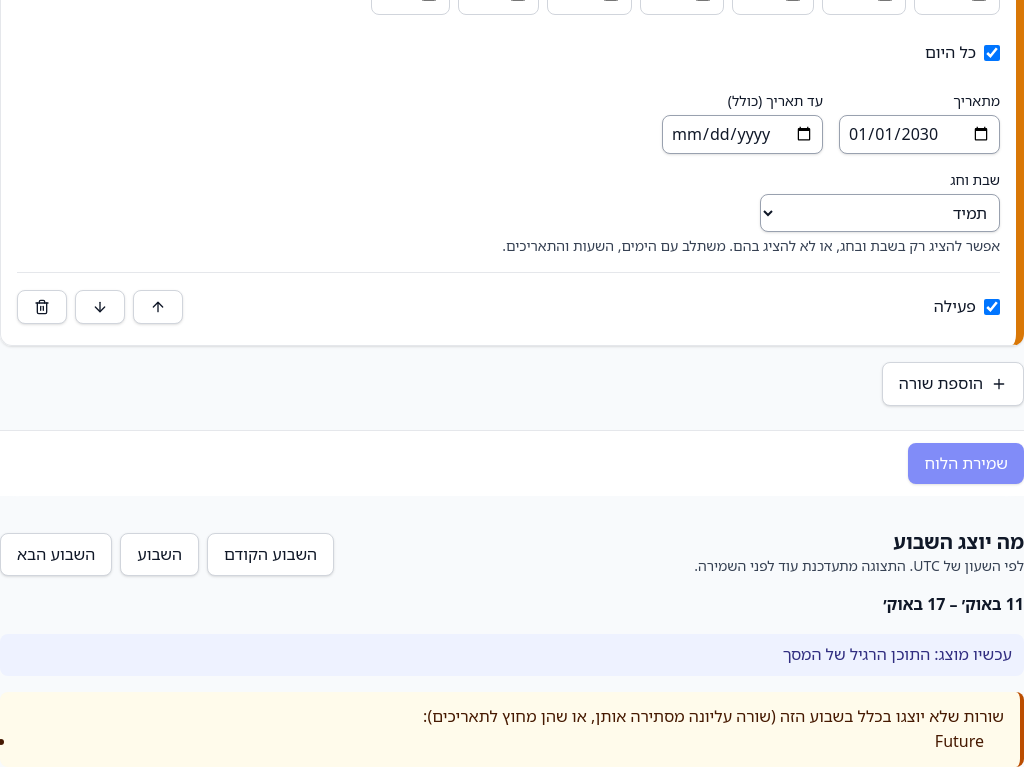
schedule editor › shows the week as text, warns about hidden entries, edits priorities and saves
The width and height of the screenshot is (1024, 767).
(page scrolled)
Expected: the text "לפי השעון של UTC. התצוגה מתעדכנת עוד לפני השמירה." is shown, [694,556,1023,576]
Expected: the text "עכשיו מוצג: התוכן הרגיל של המסך" is shown, [0,634,1023,676]
A new entry defaults to 08:00–12:00 on the first layout, below existing entries.
Click the button "הוספת שורה" at (953, 384), box [882,362,1023,406]
(page scrolled)
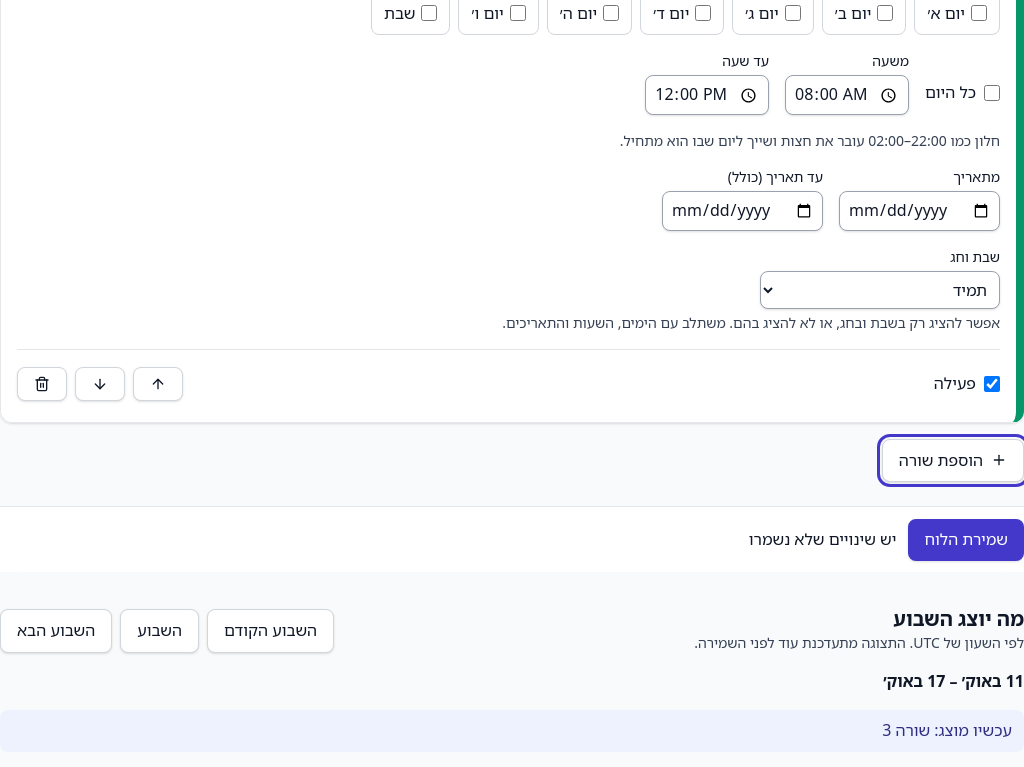
Result: the text "עכשיו מוצג: שורה 3" is shown at [0,710,1023,752]
Moving it to the top gives it priority over lunch until noon.
Click the button named "הזזת שורה 3 למעלה" at (158, 384), box [133,366,183,400]
(page scrolled)
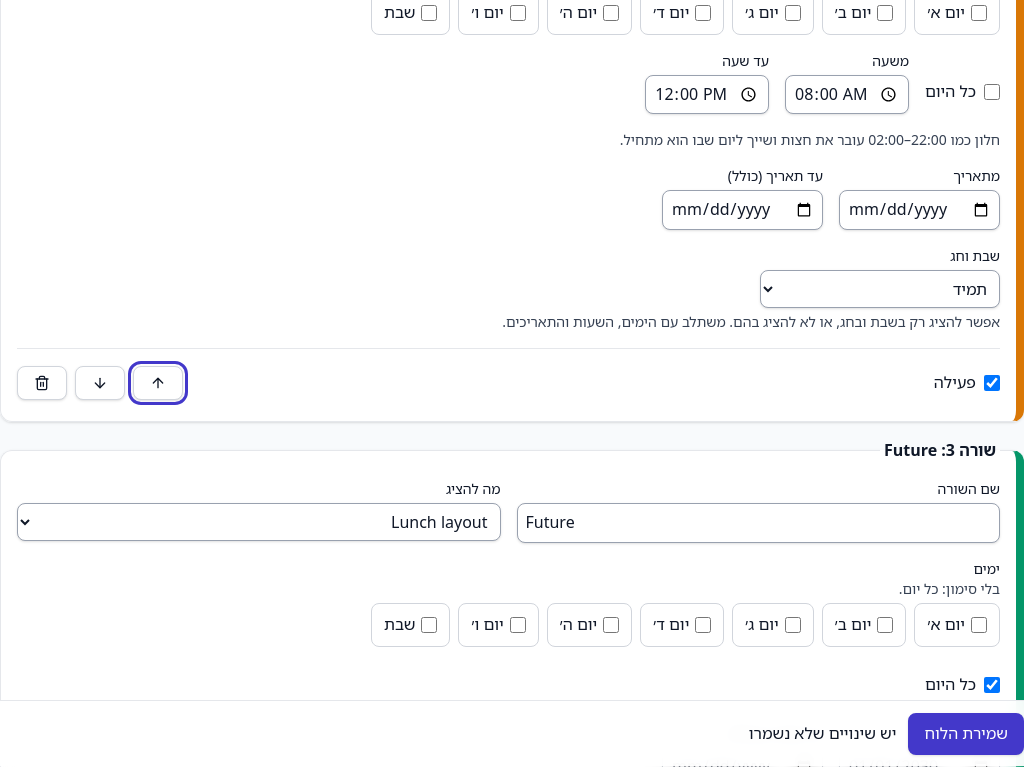
Click the button named "הזזת שורה 3 למעלה" at (158, 383), box [133,366,183,400]
(page scrolled)
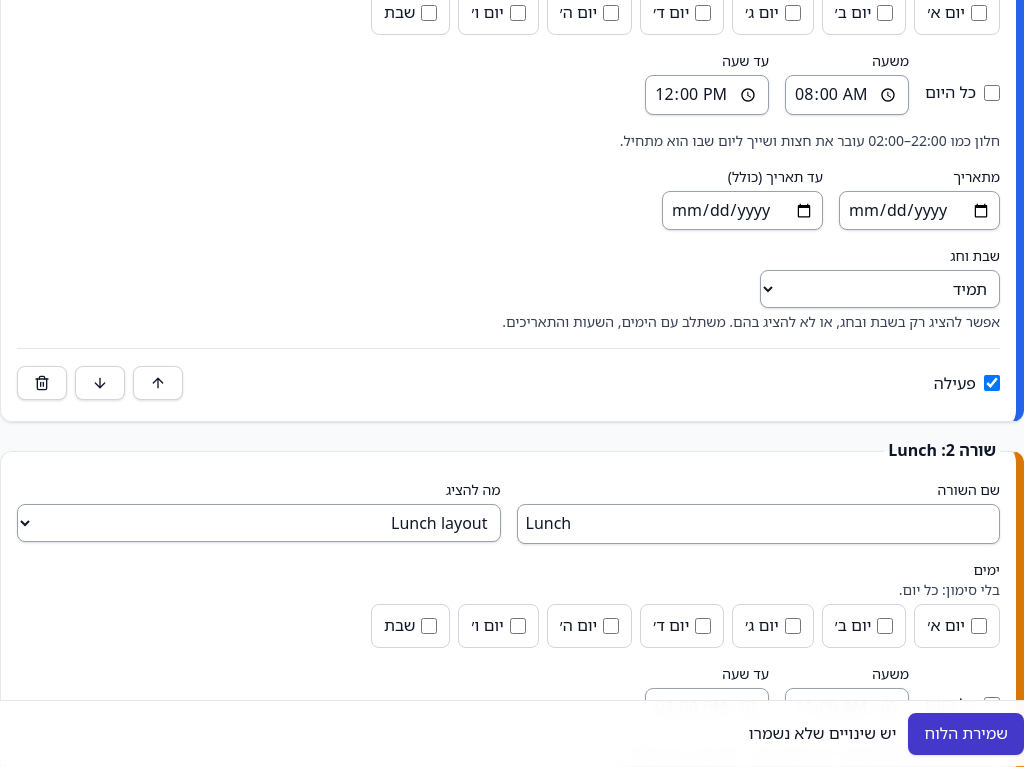
Fridays only.
Click the 1st checkbox labelled "יום ו׳" at (518, 13), box [510,5,526,21]
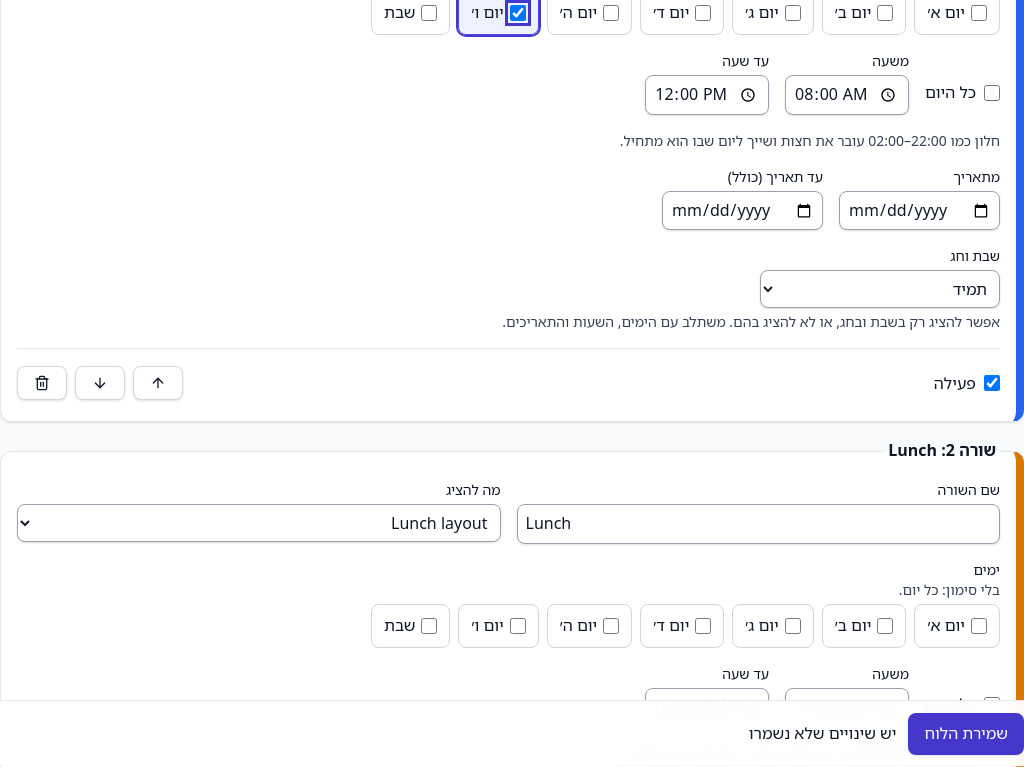
Result: the text "יש שינויים שלא נשמרו" is shown at [749,721,896,747]
Click the button "שמירת הלוח" at (966, 734), box [908,713,1023,755]
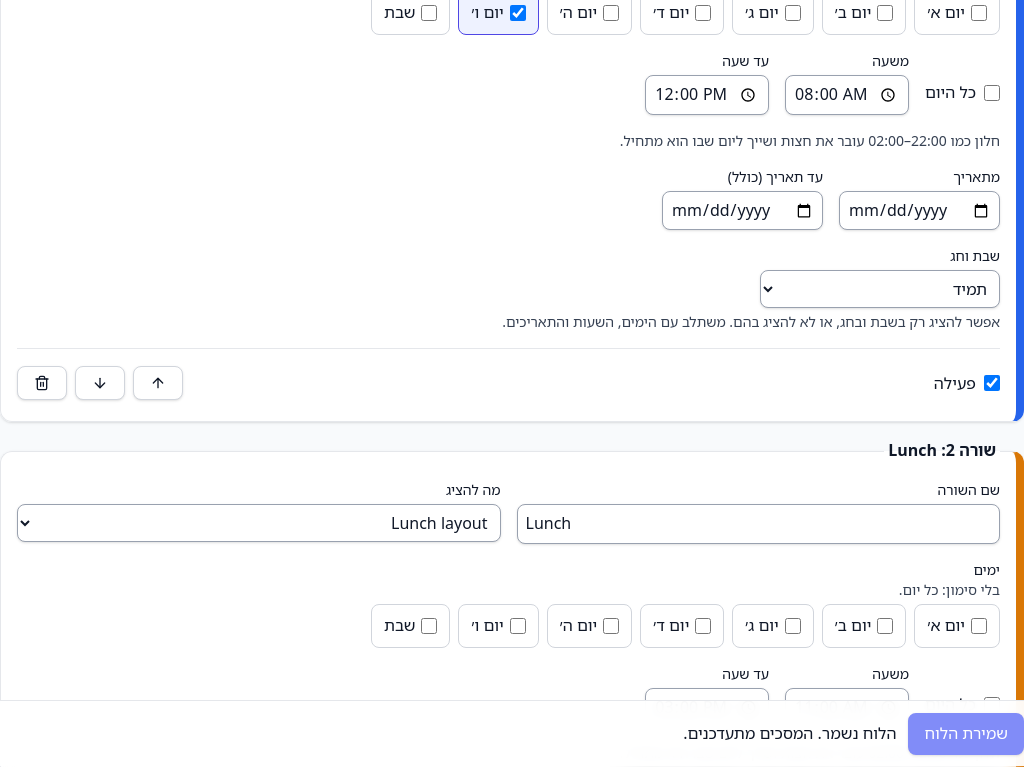
Result: the text "הלוח נשמר. המסכים מתעדכנים." is shown at [683,721,896,747]
